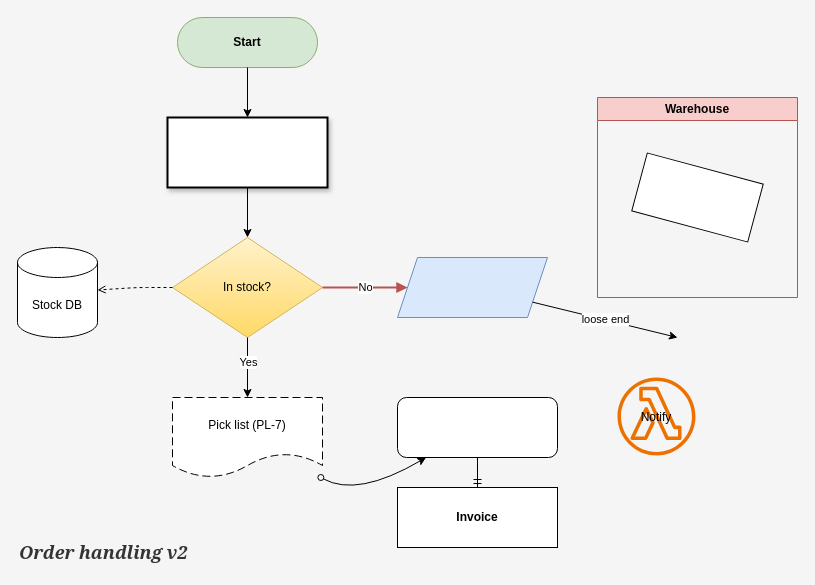
This 815x585 diagram has some shape labels left out. Here are the shapes that lost their labels. From the top down, the centre of each, then its label:
[248,153]: Receive order
[697,197]: Pack
[472,287]: Ask customer
[477,427]: Ship
